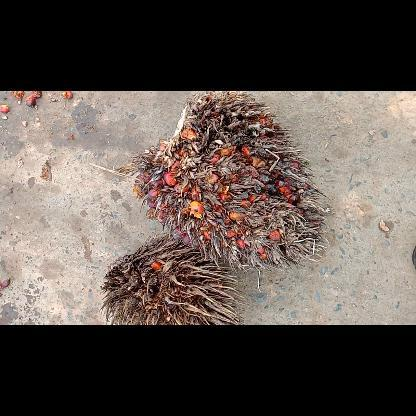Janjang kosong: (100, 232, 248, 324)
Terlalu masak: (116, 90, 328, 272)
